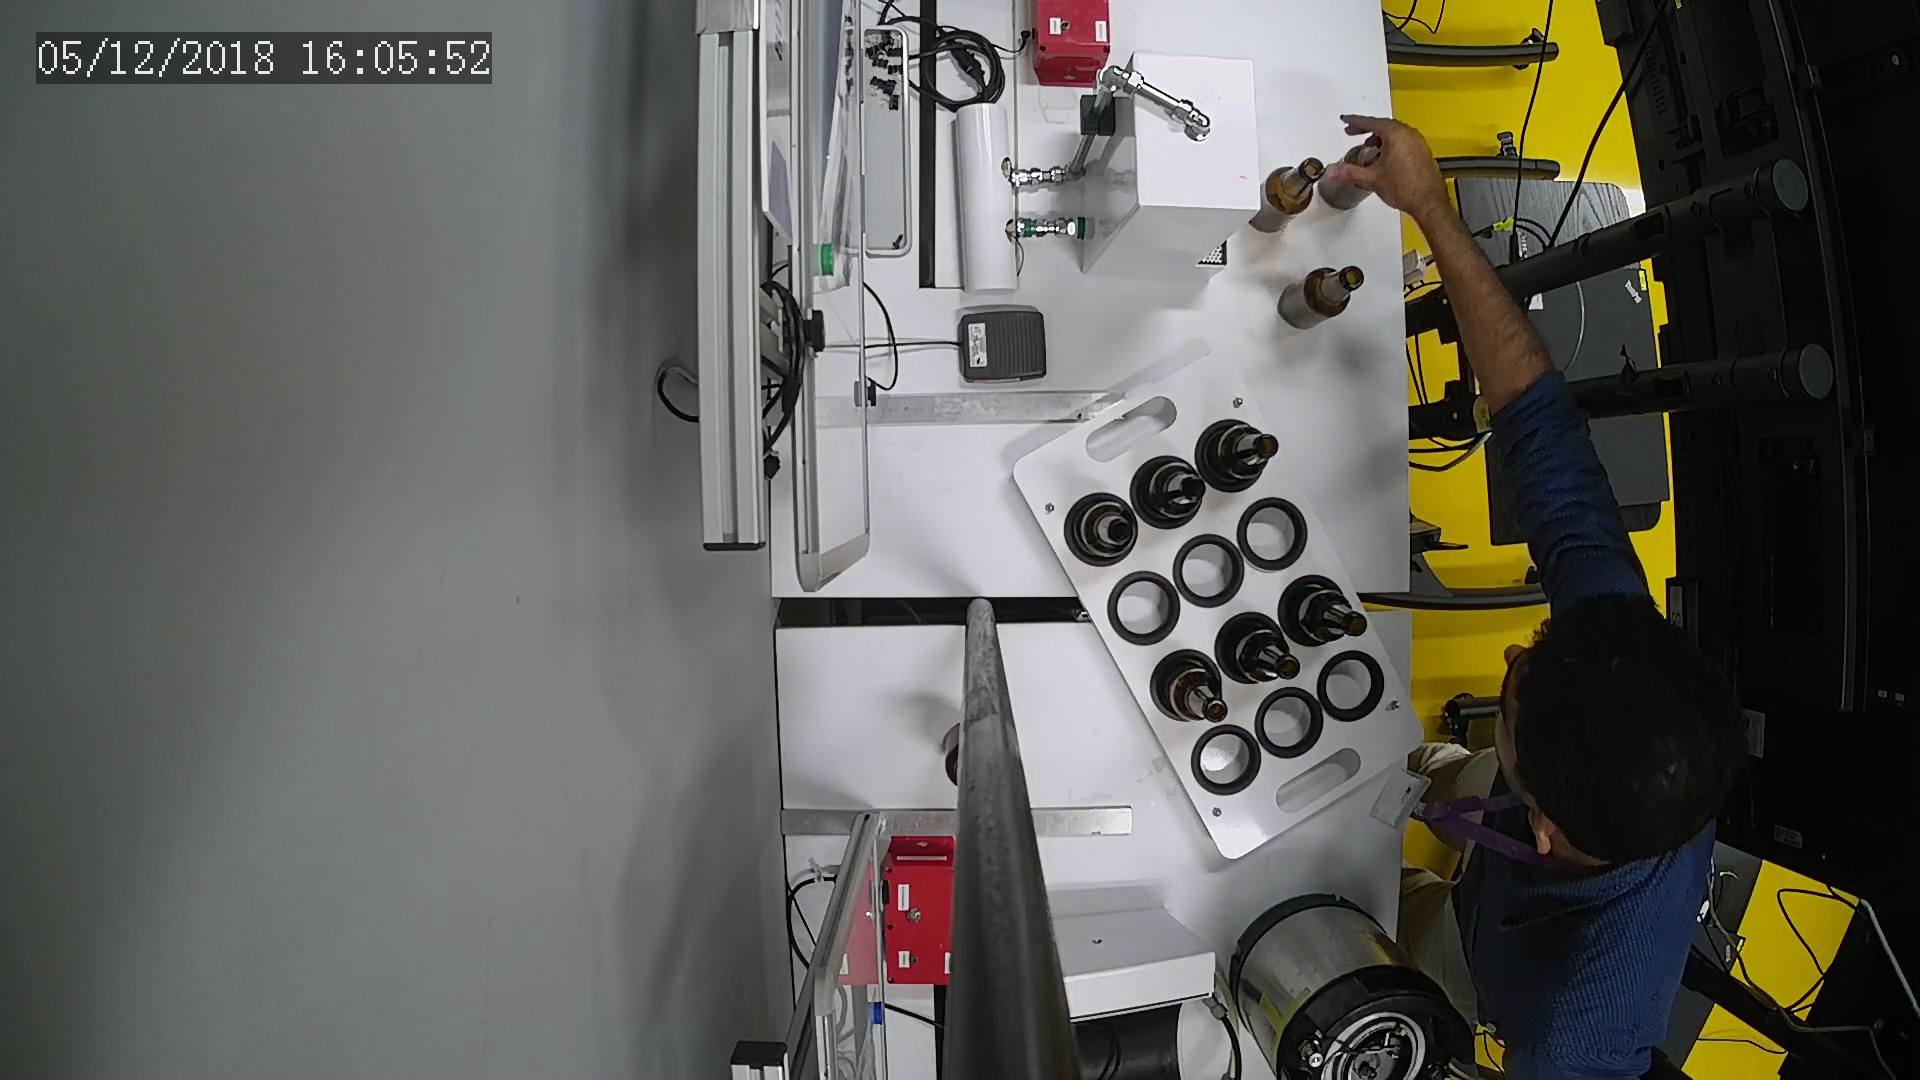filled_bottle: (1149, 653, 1237, 731), (1279, 574, 1370, 647), (1218, 615, 1305, 684), (1197, 422, 1283, 488), (1129, 459, 1211, 527), (1068, 493, 1143, 564)
trolley: (1014, 351, 1425, 865)
unfilled_bottle: (1253, 156, 1328, 240), (1274, 262, 1364, 330)
